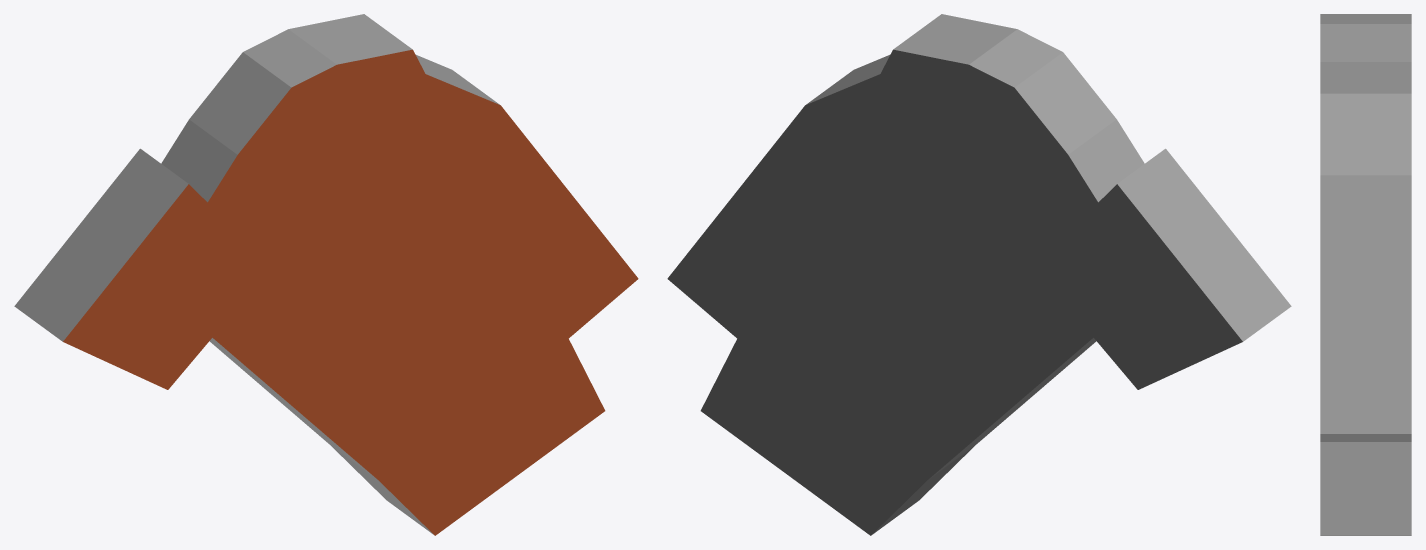
File: construction_1112_assumed_A_Casa_h6m.obj
3 views of the same model, side by side, from view 1: azimuth 30°, elevation 25°; view 2: azimuth 150°, elevation 25°; view 3: azimuth 270°, elevation 25° (orthographic). The views are drawn at different scales.
Visible parts, largest first — view 1: construction_1112_assumed_A_Casa; view 2: construction_1112_assumed_A_Casa; view 3: construction_1112_assumed_A_Casa.
Part boxes in pixels (x1=…): construction_1112_assumed_A_Casa: x1=14, y1=14, x2=638, y2=535; construction_1112_assumed_A_Casa: x1=667, y1=14, x2=1291, y2=535; construction_1112_assumed_A_Casa: x1=1320, y1=14, x2=1411, y2=535.
Size of the model in its own units: 41.06 by 33.74 by 6.
